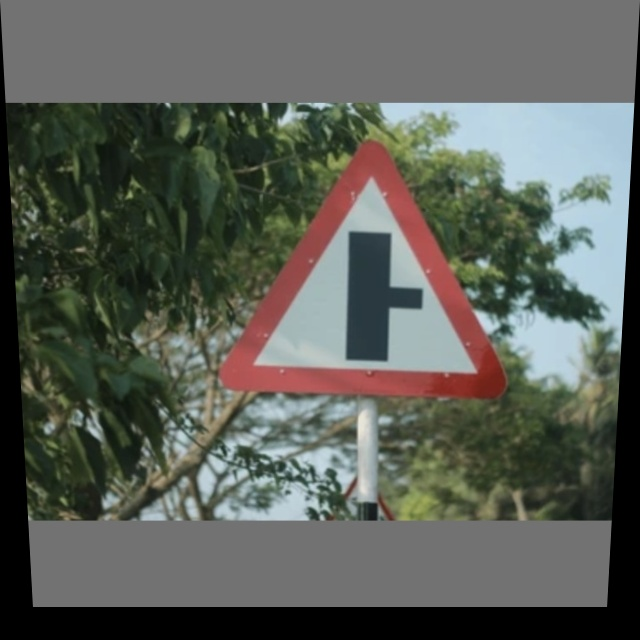Side_Road_Right: (232, 145, 511, 400)
